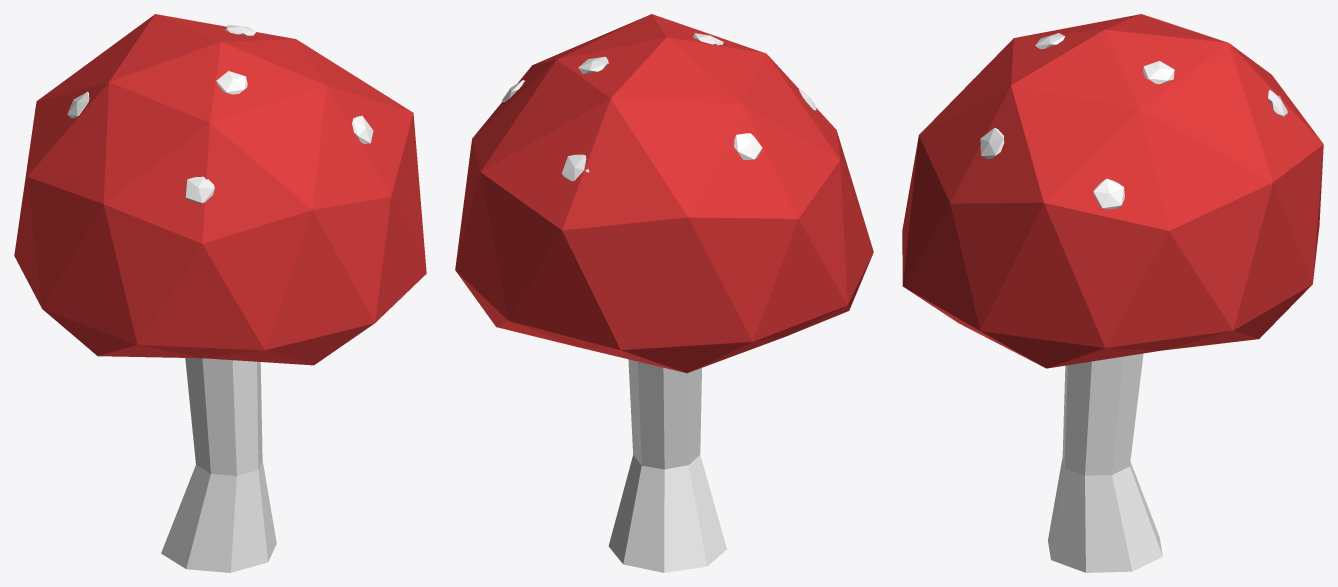
The model's file is Mushroom_07.fbx.
The picture shows the model from 3 angles, left to right: view 1: azimuth 30°, elevation 25°; view 2: azimuth 150°, elevation 25°; view 3: azimuth 270°, elevation 25°; orthographic projection. The views are drawn at different scales.
Visible parts, largest first — view 1: Mushroom_07; view 2: Mushroom_07; view 3: Mushroom_07.
Part boxes in pixels (<box>): Mushroom_07: <box>14,14,426,572</box>; Mushroom_07: <box>455,14,873,572</box>; Mushroom_07: <box>902,14,1323,572</box>.
Size of the model in its own units: 18.05 by 24.39 by 17.92.
